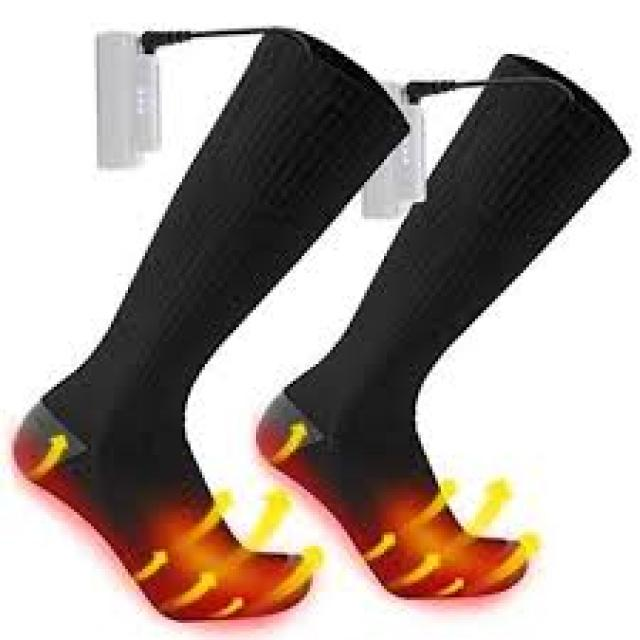sock: (8, 26, 410, 620), (253, 51, 632, 600)
